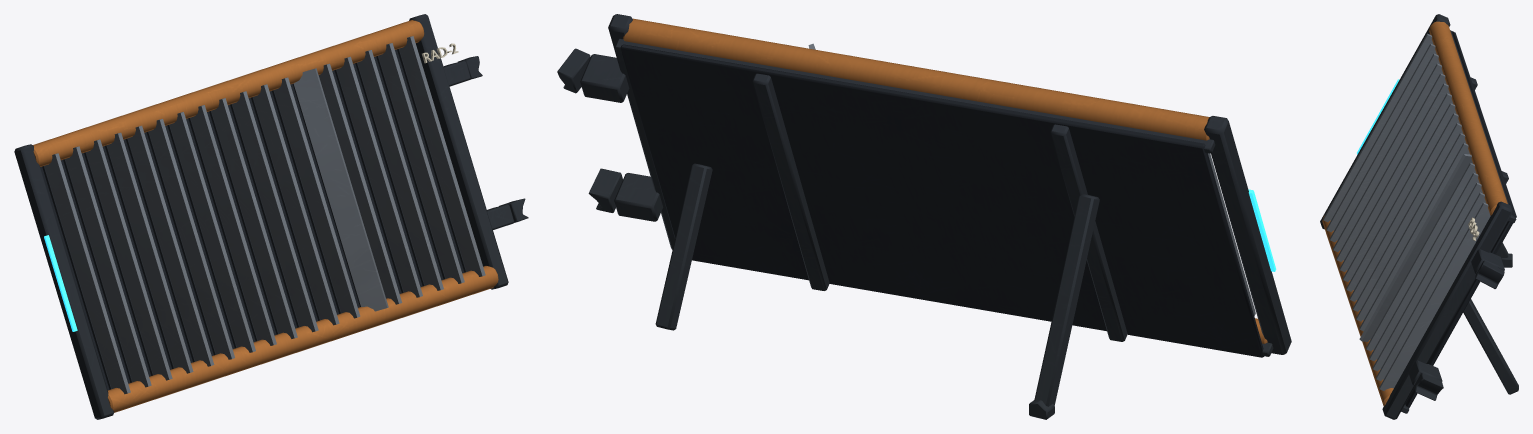
File: radiator_panel.glb
3 views of the same model, side by side, from view 1: azimuth 30°, elevation 25°; view 2: azimuth 150°, elevation 25°; view 3: azimuth 270°, elevation 25° (orthographic). The views are drawn at different scales.
Visible parts, largest first — view 1: radiator_panel; view 2: radiator_panel; view 3: radiator_panel.
Part boxes in pixels (bbox=[...]): radiator_panel: bbox=[14, 14, 528, 419]; radiator_panel: bbox=[557, 14, 1291, 419]; radiator_panel: bbox=[1320, 14, 1518, 419].
Size of the model in its own units: 3.45 by 1.54 by 1.33.
Materials: 6 (5 with a texture image).
